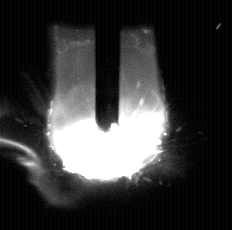arame: (97, 0, 120, 133)
poca: (47, 0, 165, 230)
